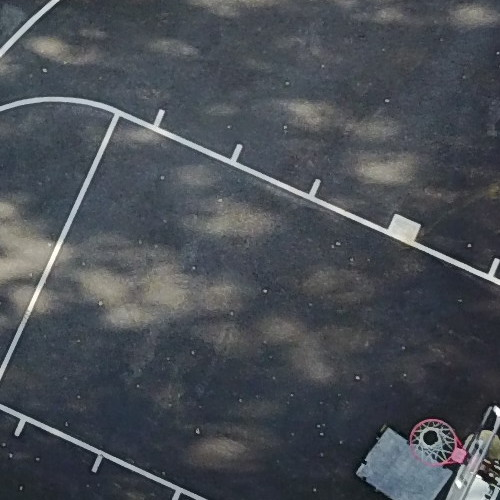basketball: (323, 368, 499, 500)
